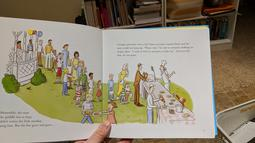text block: (113, 40, 197, 60), (1, 111, 55, 129)
